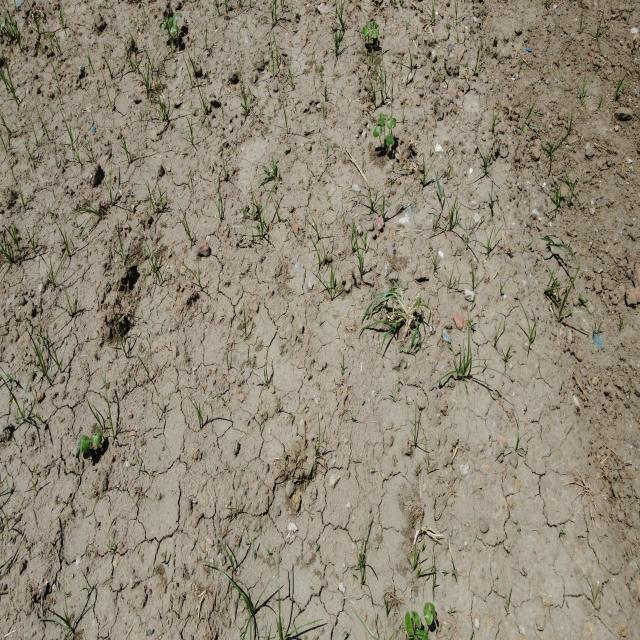seedling_s3: (405, 611, 414, 638), (423, 602, 433, 626), (411, 610, 421, 629), (81, 434, 90, 452), (429, 603, 437, 621), (91, 434, 102, 447), (415, 630, 428, 640), (387, 117, 396, 129), (373, 127, 383, 137), (173, 12, 182, 22), (380, 113, 386, 126), (159, 22, 167, 31), (94, 428, 103, 436), (362, 26, 369, 36), (389, 131, 394, 144), (385, 133, 390, 145), (171, 25, 178, 33), (169, 17, 174, 27), (371, 30, 377, 38), (370, 21, 374, 30)
